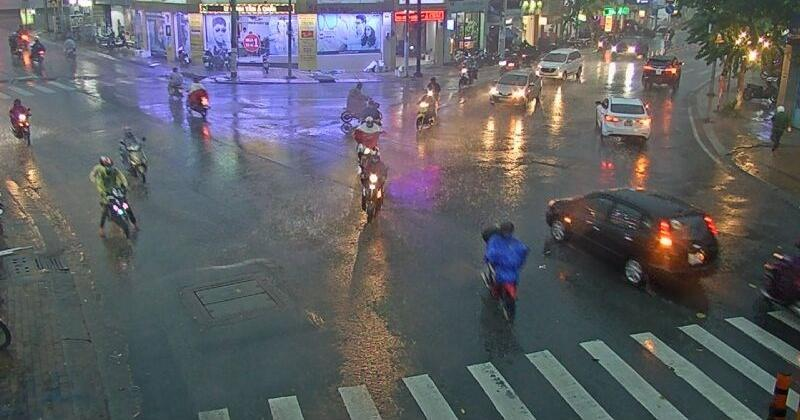xe hoi: (545, 187, 719, 283), (595, 97, 652, 139), (488, 70, 541, 105)
xe may: (481, 220, 529, 321), (89, 156, 139, 238), (360, 150, 388, 223), (340, 82, 383, 125), (118, 125, 148, 183), (8, 98, 32, 145), (184, 76, 210, 117)
